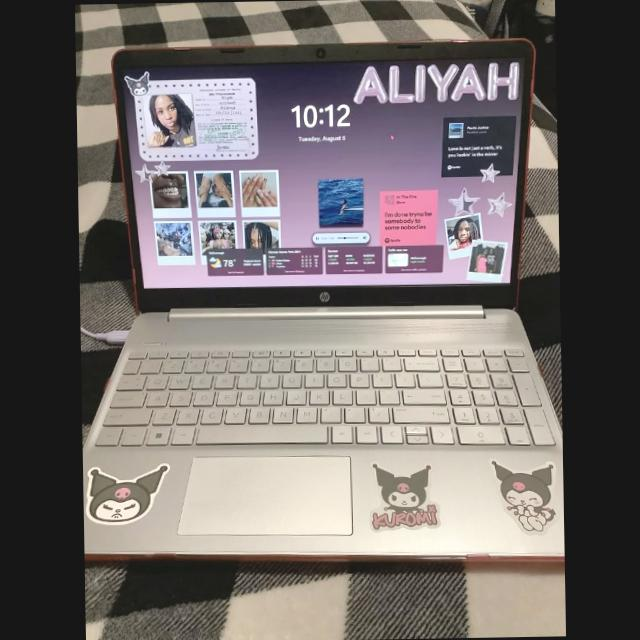laptop: (82, 39, 564, 559)
